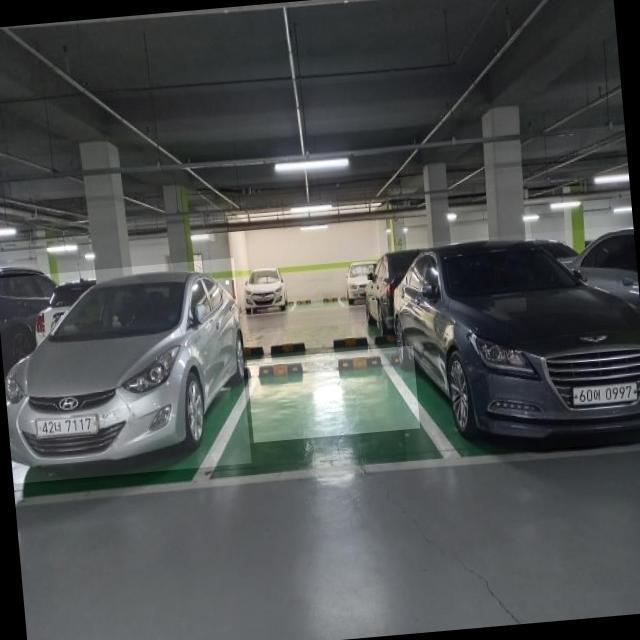empty: (246, 345, 420, 442)
occupied: (387, 224, 640, 461), (0, 257, 251, 483)
